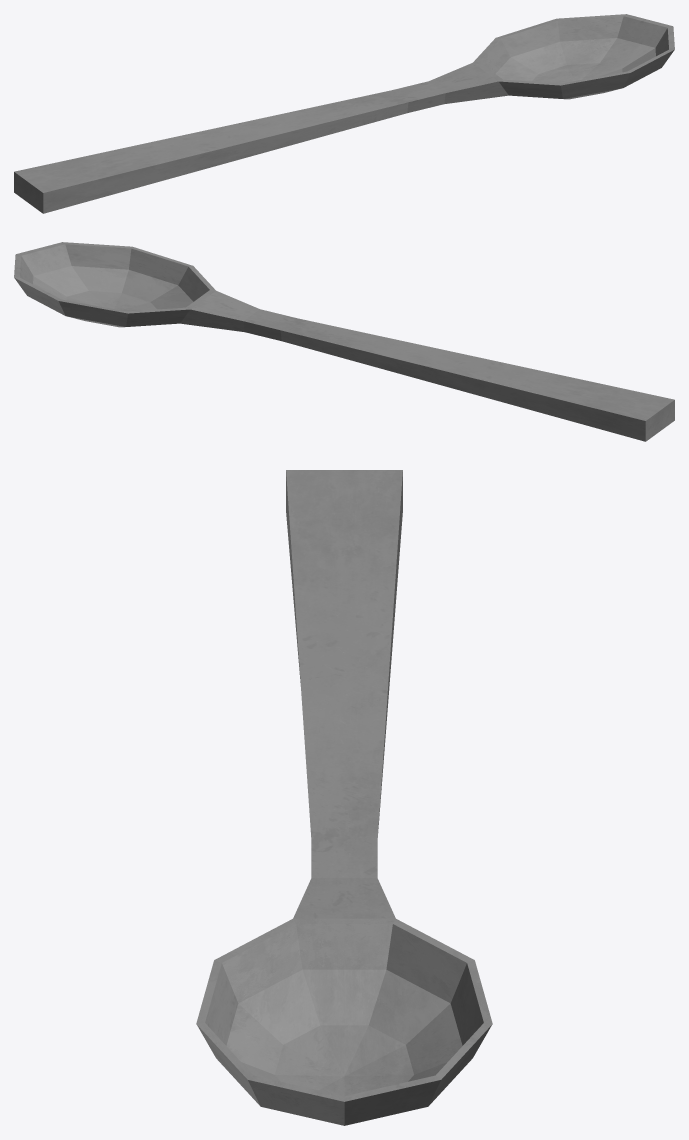
File: SPOON.fbx
3 renders of one model, top to bottom at view 1: azimuth 30°, elevation 25°; view 2: azimuth 150°, elevation 25°; view 3: azimuth 270°, elevation 25°, orthographic. The views are drawn at different scales.
Parts seen in each view (by area): view 1: pSphere6; view 2: pSphere6; view 3: pSphere6.
Part boxes in pixels (<box>): pSphere6: <box>14,14,674,213</box>; pSphere6: <box>14,242,674,441</box>; pSphere6: <box>196,470,492,1125</box>.
Size of the model in its own units: 73.71 by 4.14 by 14.68.
